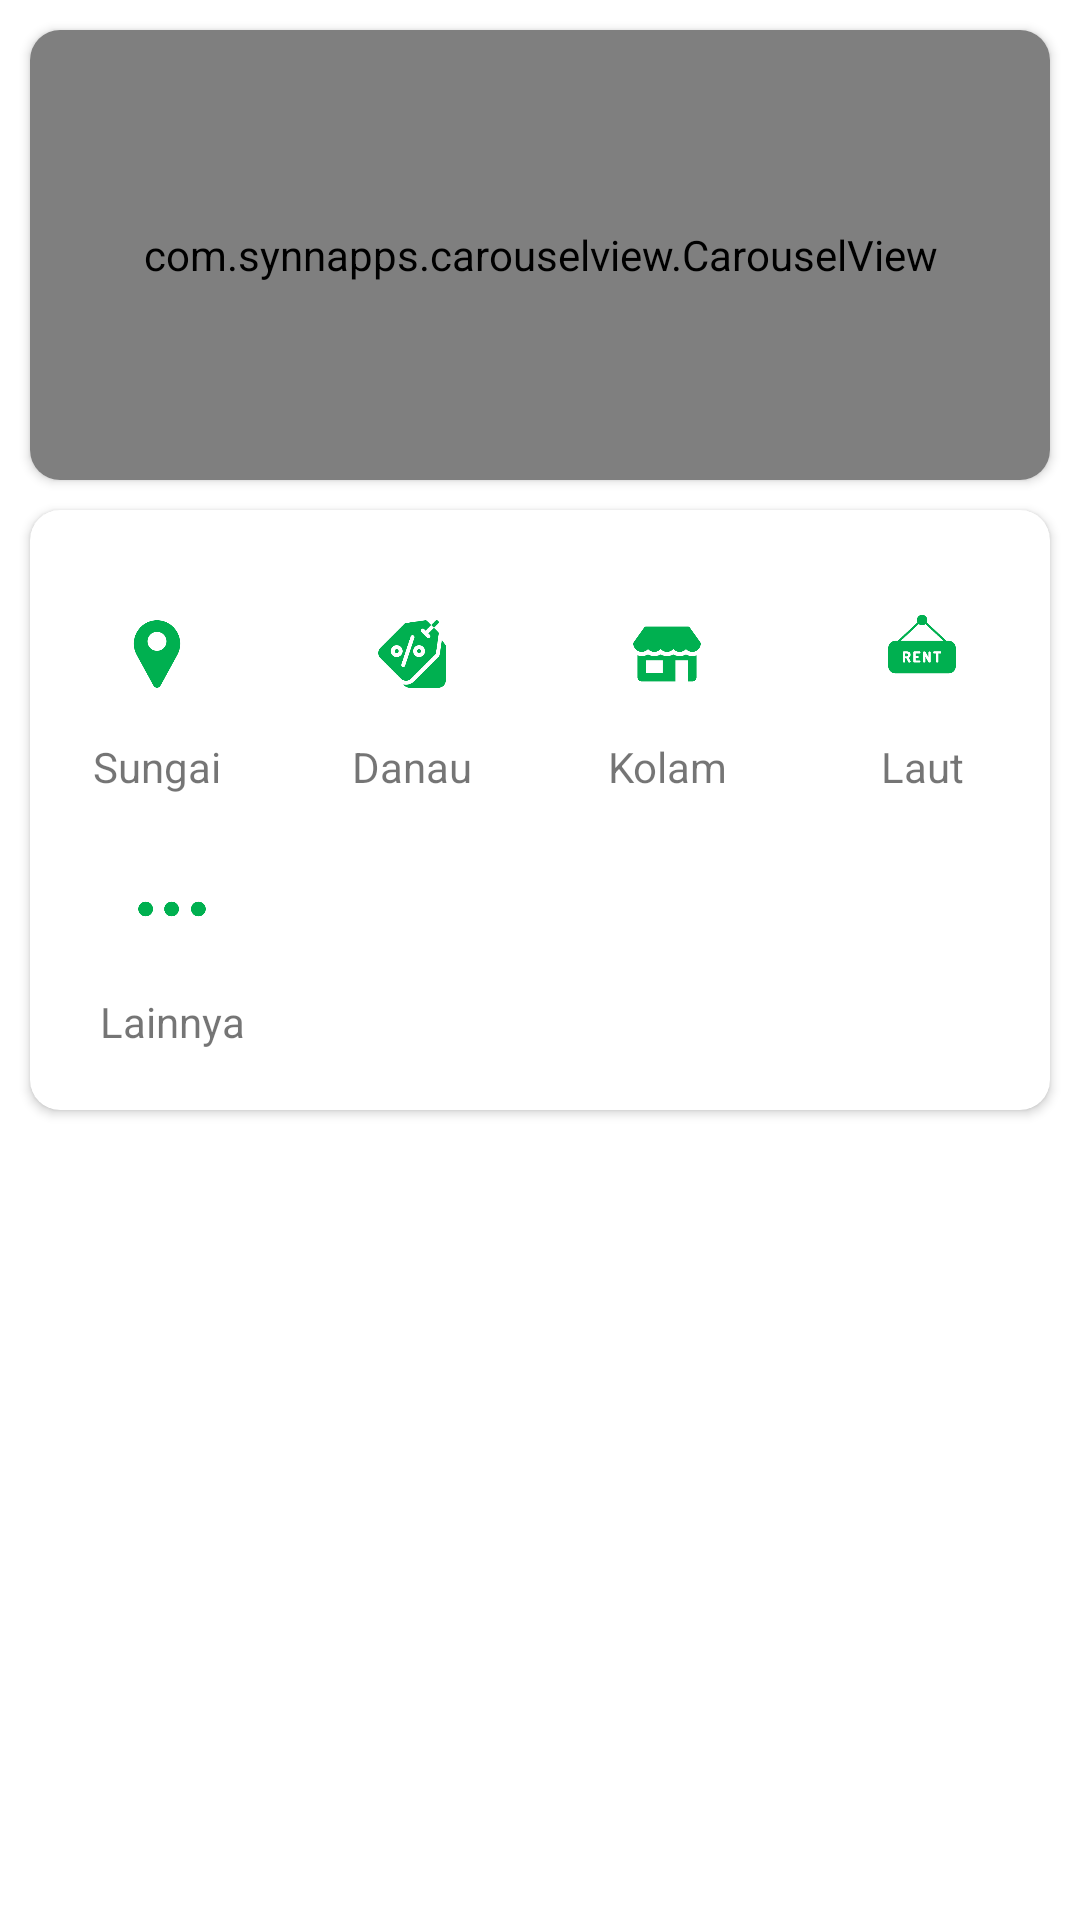

Icon click points for this 1080px x 1920px phone screenshot, format (x,y):
maps: (157,654)
opsion: (172,909)
toko: (667,654)
